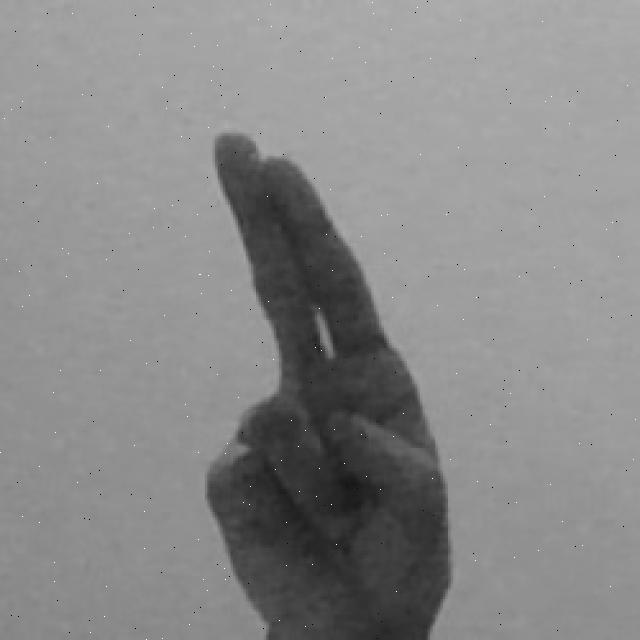U: (197, 125, 461, 640)
